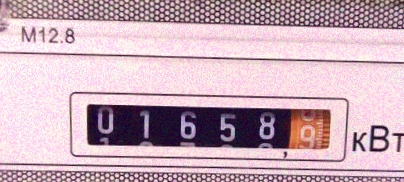0: (94, 102, 115, 135)
1: (138, 107, 151, 139)
5: (217, 110, 237, 142)
6: (178, 108, 198, 140)
8: (257, 109, 276, 141)
9: (296, 122, 315, 148)
screen: (60, 82, 353, 167)
